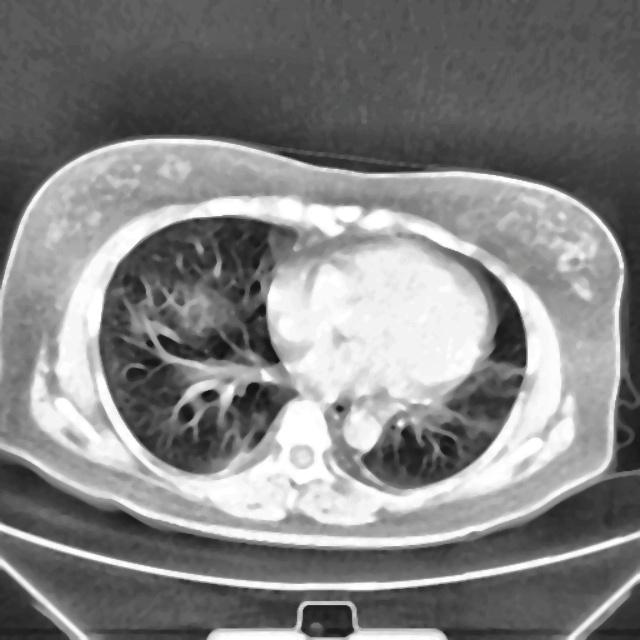covid: (1, 136, 627, 550)
